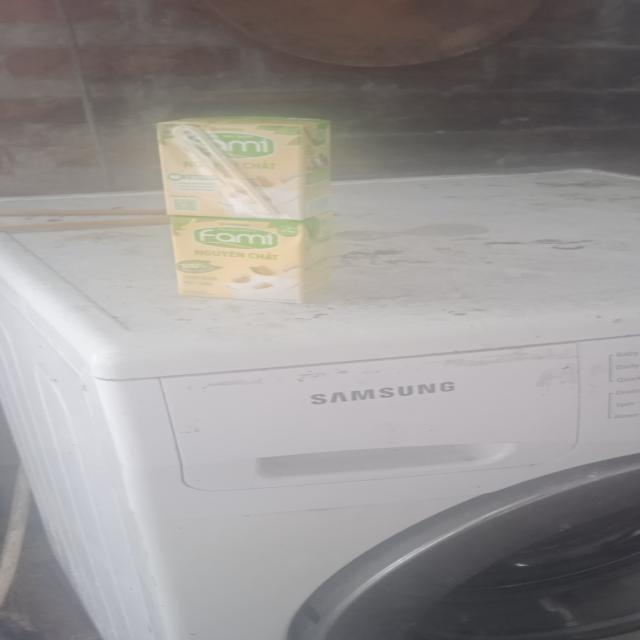Fami: (157, 116, 333, 222), (171, 213, 338, 304)
